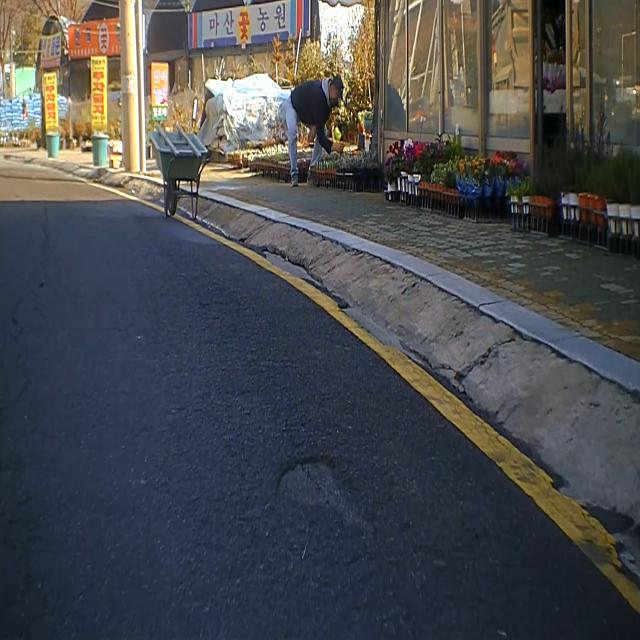Pothole: (269, 444, 386, 556)
